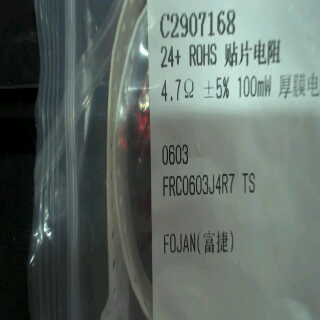4.7R: (157, 73, 201, 105)
